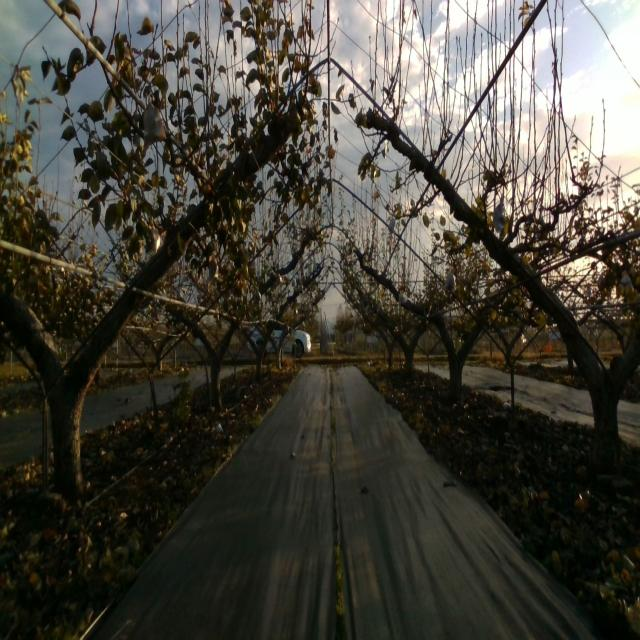pearbags: (141, 94, 167, 152), (492, 193, 507, 234), (148, 221, 161, 254), (444, 273, 457, 293)
